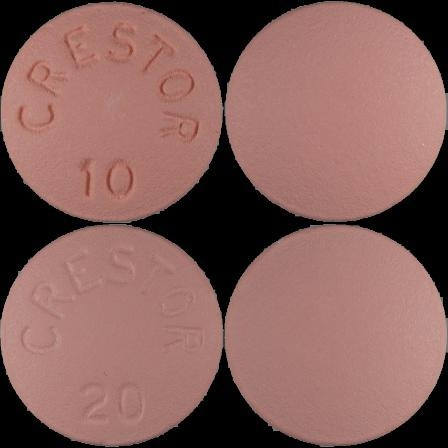21695-287: (0, 0, 224, 224)
